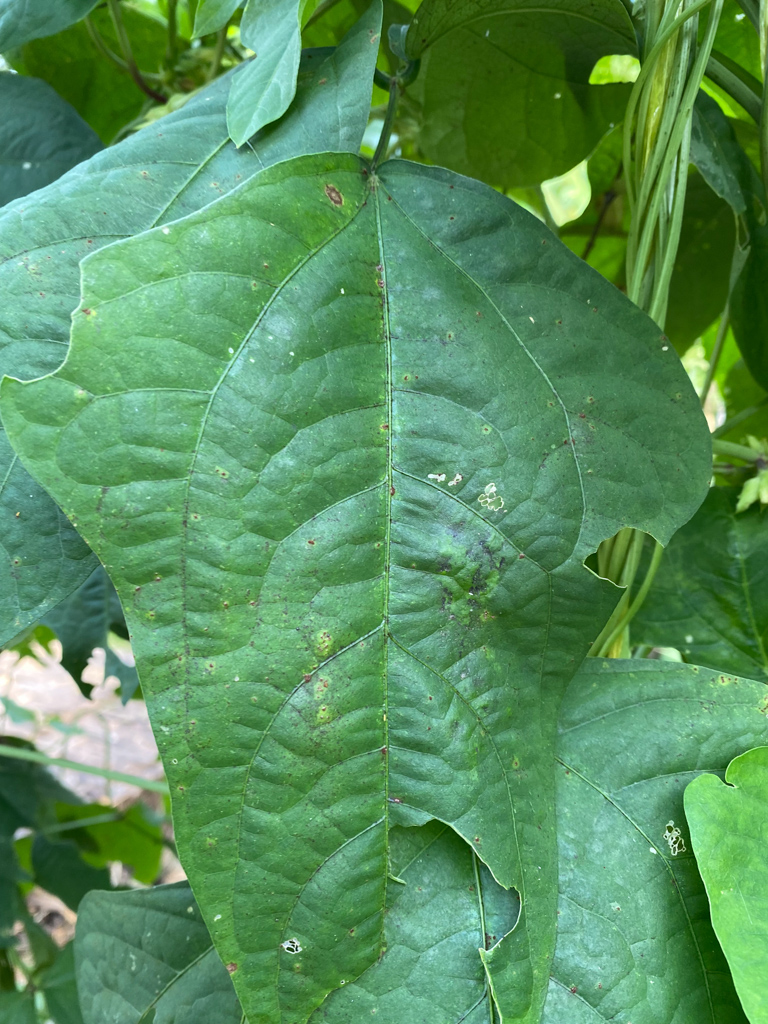Rust: (272, 169, 544, 826), (126, 432, 367, 867)
